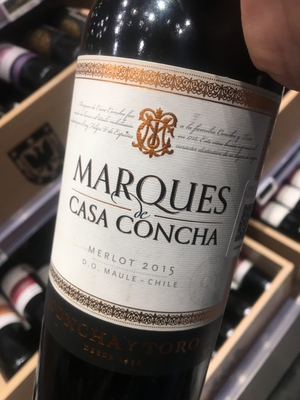marques de casa concha merlot: (45, 12, 277, 400)
